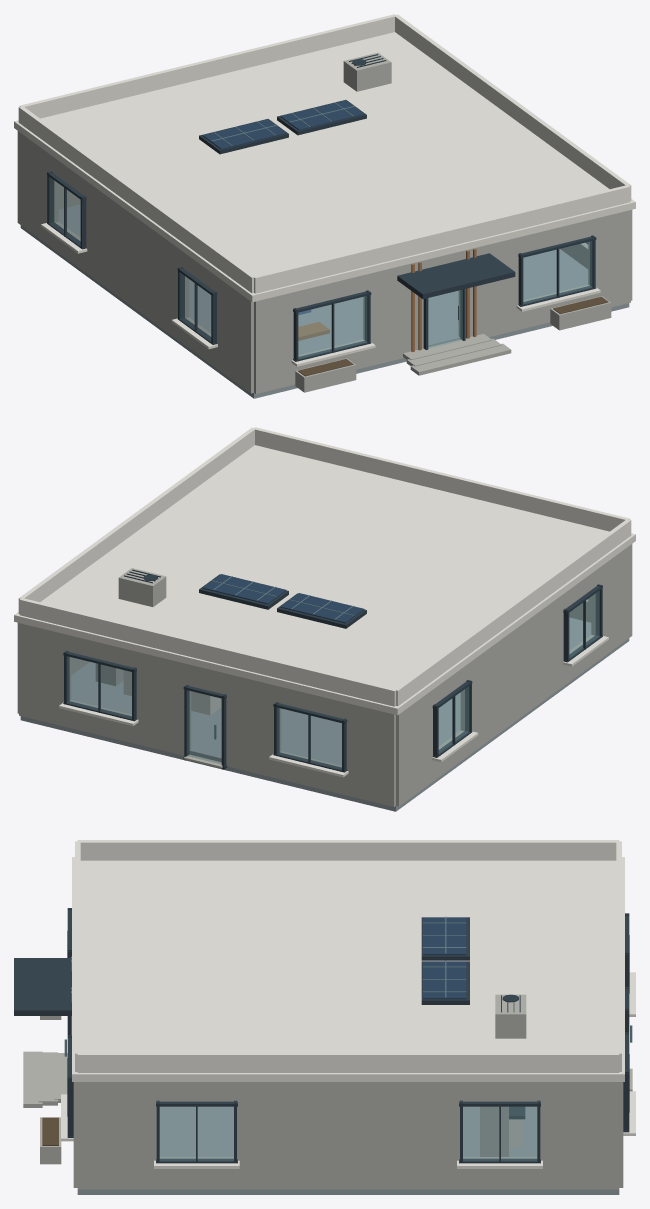
The model's file is House_5.fbx.
3 views of the same model, one above another, from view 1: azimuth 30°, elevation 25°; view 2: azimuth 150°, elevation 25°; view 3: azimuth 270°, elevation 25° (orthographic). The views are drawn at different scales.
Parts seen in each view (by area): view 1: House_5; view 2: House_5; view 3: House_5.
Boxes of the visible parts, x1=… form: House_5: x1=14, y1=14, x2=635, y2=398; House_5: x1=14, y1=427, x2=635, y2=811; House_5: x1=14, y1=840, x2=635, y2=1194.
Bounding box in the file's own units: 13.87 × 4.27 × 16.09.
